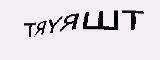Т: (120, 9, 145, 31), (21, 21, 36, 38)
Ш: (82, 9, 119, 31)
Я: (59, 13, 80, 33), (33, 21, 47, 37)
Ү: (47, 16, 60, 35)
